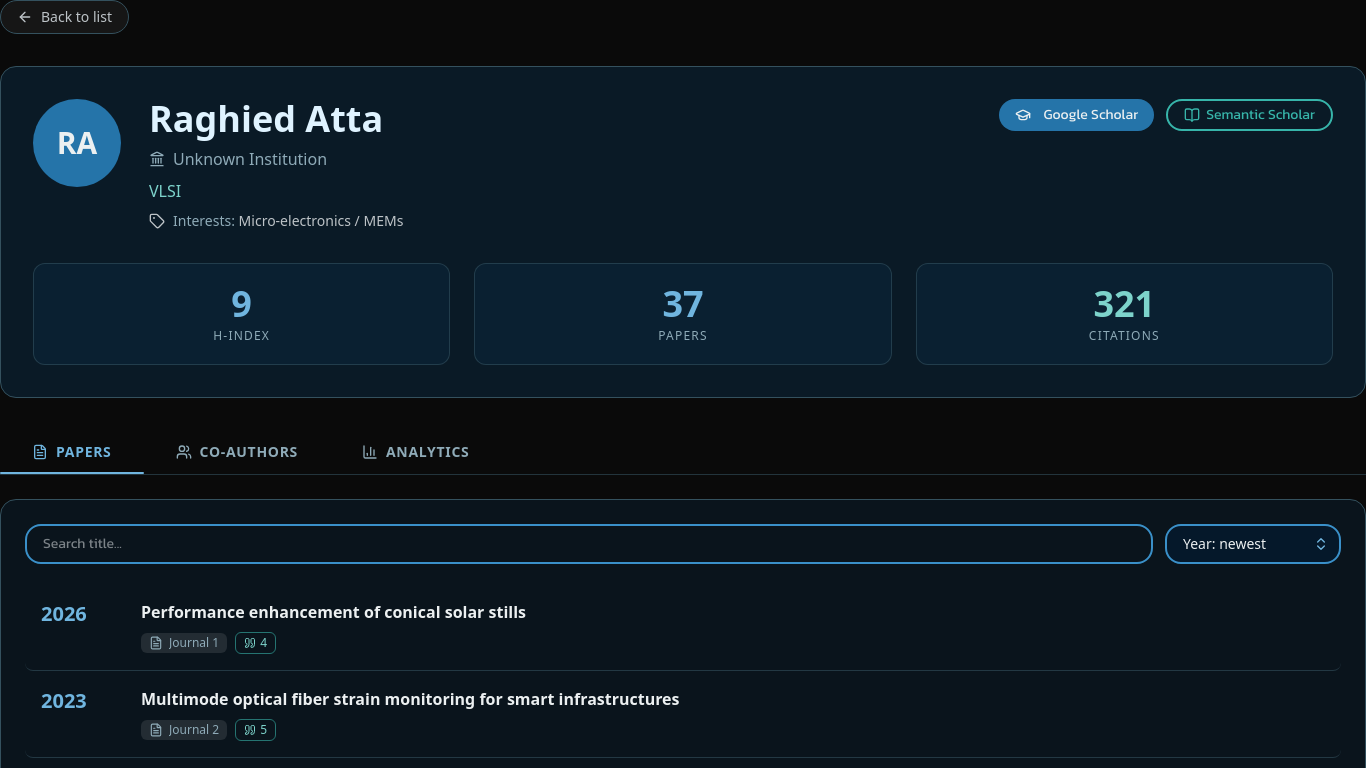
Co-Authors tab › lists chips largest collaboration first with Semantic Scholar links
The image size is (1366, 768).
Expected: the text "321" is shown, [1093,284,1155,324]
Click the tab "Co-Authors" at (237,452), box [144,430,330,474]
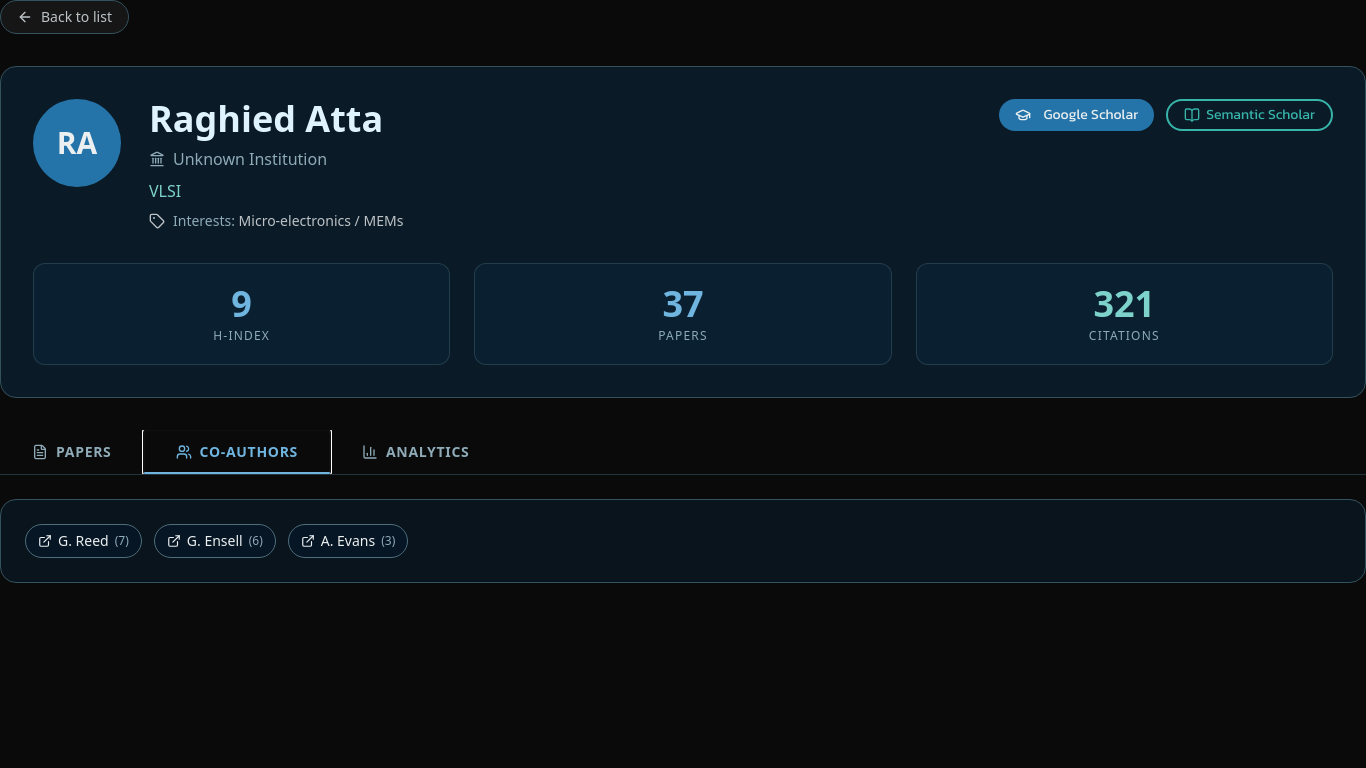
Expected: the links read "G. Reed(7)", "G. Ensell(6)", "A. Evans(3)", in this order, [25,524,142,558]; [154,524,276,558]; [288,524,408,558]
